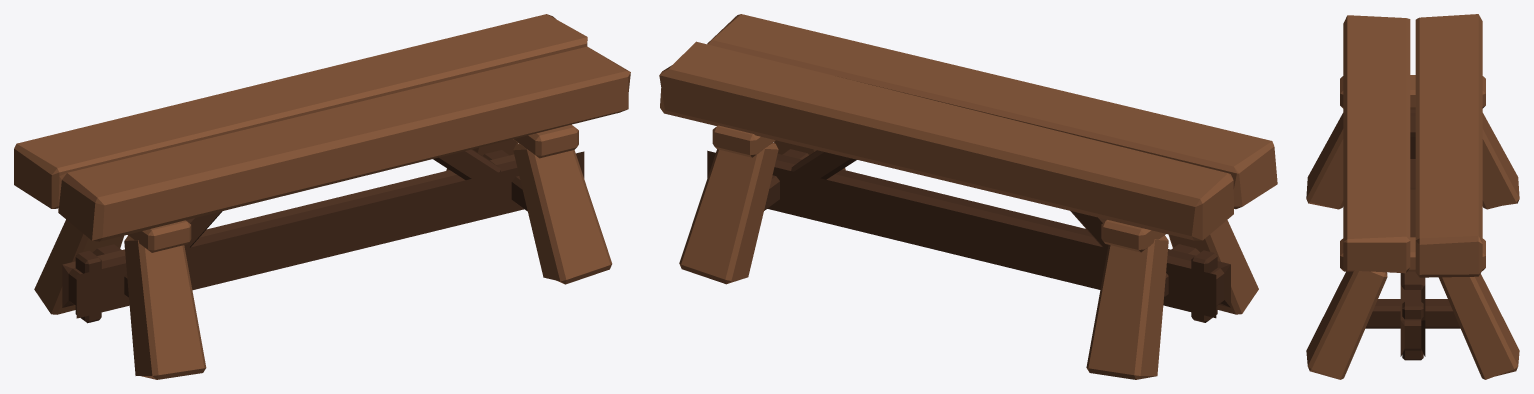
The picture shows the model from 3 angles, left to right: view 1: azimuth 30°, elevation 25°; view 2: azimuth 150°, elevation 25°; view 3: azimuth 270°, elevation 25°; orthographic projection. The views are drawn at different scales.
Visible parts, largest first — view 1: seat, frame, legs; view 2: seat, frame, legs; view 3: seat, legs, frame.
Boxes of the visible parts, x1,y1,x2,y2 form: seat: (14, 14, 630, 241); frame: (62, 149, 584, 323); legs: (34, 124, 612, 379); seat: (659, 14, 1277, 240); frame: (707, 149, 1230, 322); legs: (679, 125, 1258, 379); seat: (1343, 14, 1482, 277); legs: (1306, 75, 1519, 379); frame: (1365, 109, 1460, 360).
Bounding box in the file's own units: 1.62 × 0.5259 × 0.6442.
